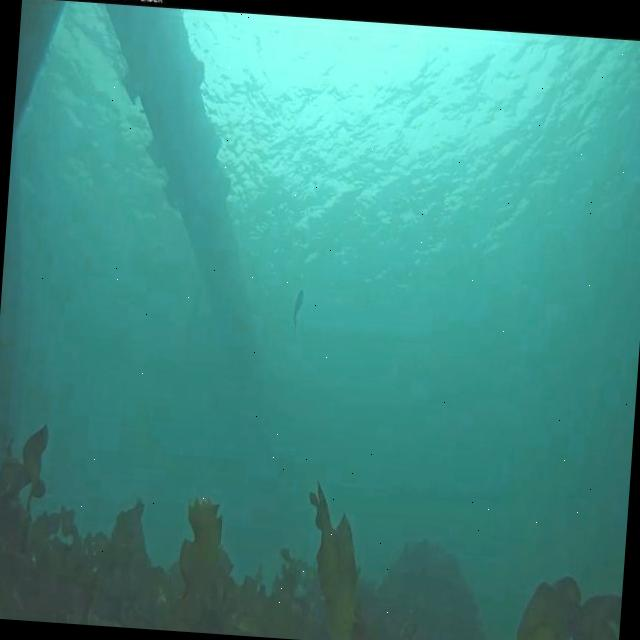fish: (290, 288, 304, 332)
